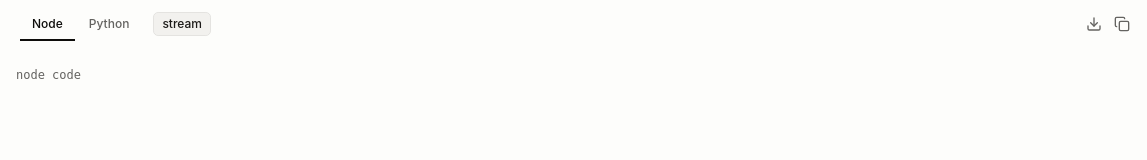
CodeView › renders generated code and toggles stream mode
The width and height of the screenshot is (1147, 160).
Expected: the text "node code" is shown, [16,68,81,82]
Click the button "stream": (182, 24) [153,12,211,36]
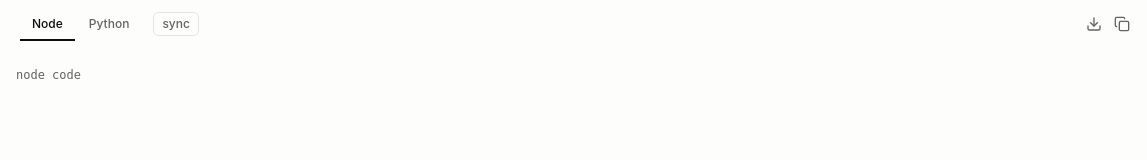
Now the button "sync" is shown, box [153,12,199,36]
